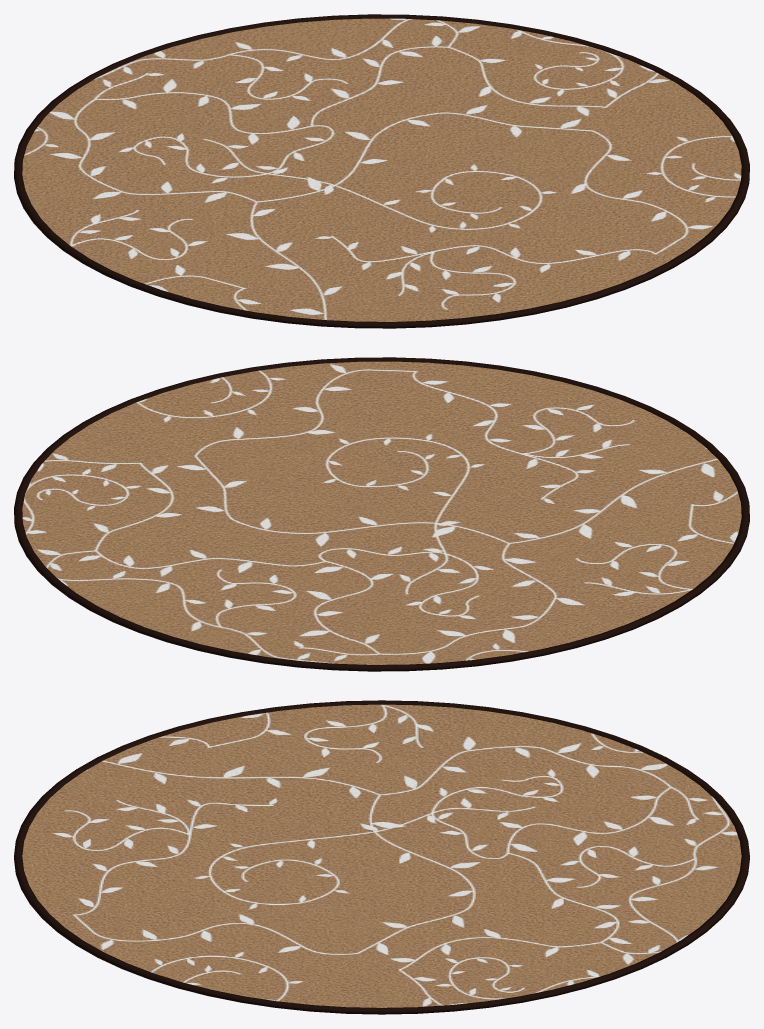
The model's file is round-carpet.obj.
3 views of the same model, one above another, from view 1: azimuth 30°, elevation 25°; view 2: azimuth 150°, elevation 25°; view 3: azimuth 270°, elevation 25° (orthographic).
Visible parts, largest first — view 1: int_rug_Cylinder.001, ext_rug_Cylinder; view 2: int_rug_Cylinder.001, ext_rug_Cylinder; view 3: int_rug_Cylinder.001, ext_rug_Cylinder.
Boxes of the visible parts, x1,y1,x2,y2 form: int_rug_Cylinder.001: (22,18,741,321); ext_rug_Cylinder: (14,14,749,328); int_rug_Cylinder.001: (22,361,741,664); ext_rug_Cylinder: (14,357,749,671); int_rug_Cylinder.001: (22,704,741,1007); ext_rug_Cylinder: (14,700,749,1014).
Size of the model in its own units: 80 by 0.521 by 80.
Materials: 2 (1 with a texture image).
